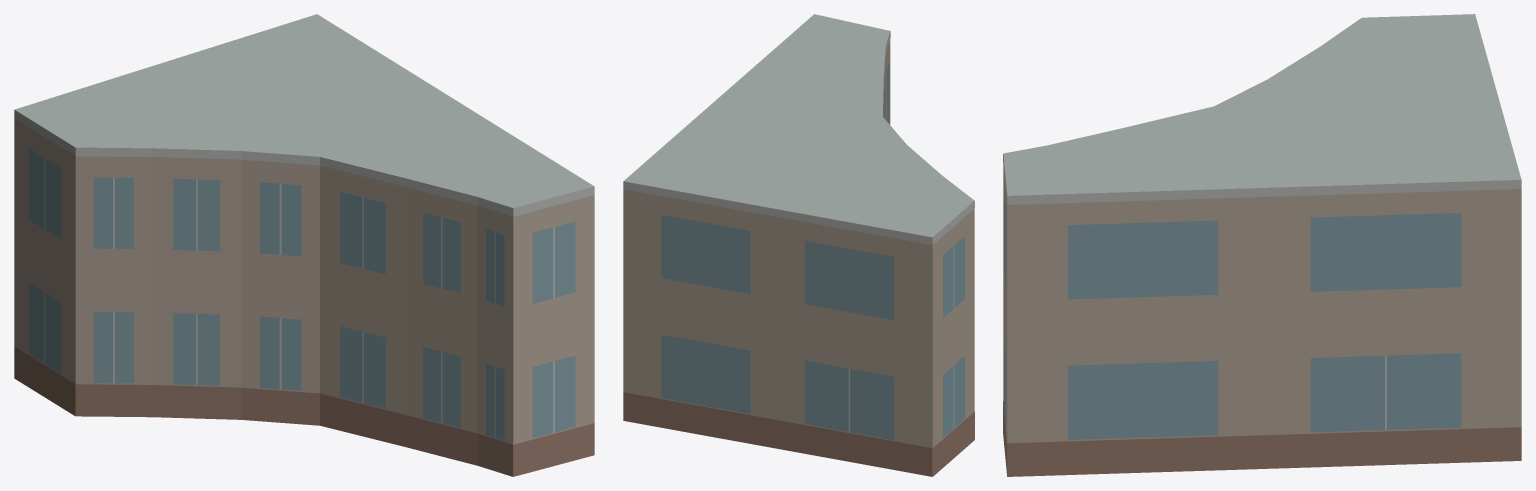
Rendered from survey-upis-32628094.glb.
The picture shows the model from 3 angles, left to right: view 1: azimuth 30°, elevation 25°; view 2: azimuth 150°, elevation 25°; view 3: azimuth 270°, elevation 25°; orthographic projection. The views are drawn at different scales.
Visible parts, largest first — view 1: survey-upis-32628094.tmp; view 2: survey-upis-32628094.tmp; view 3: survey-upis-32628094.tmp.
Part boxes in pixels (left/top/right/bottom): survey-upis-32628094.tmp: left=14, top=14, right=594, bottom=476; survey-upis-32628094.tmp: left=623, top=14, right=974, bottom=476; survey-upis-32628094.tmp: left=1003, top=14, right=1521, bottom=476.
Size of the model in its own units: 10.56 by 7.6 by 12.72.
